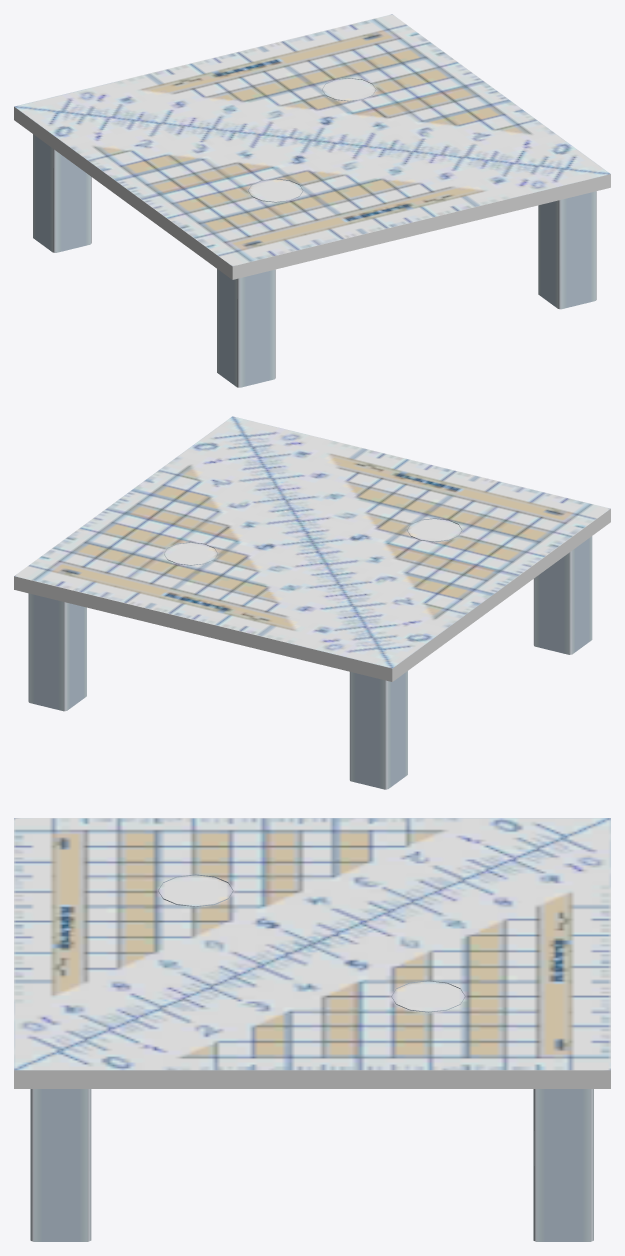
Rendered from int_stt_tableL.dae.
3 renders of one model, top to bottom at view 1: azimuth 30°, elevation 25°; view 2: azimuth 150°, elevation 25°; view 3: azimuth 270°, elevation 25°, orthographic. The views are drawn at different scales.
Visible parts, largest first — view 1: int_stt_tableL; view 2: int_stt_tableL; view 3: int_stt_tableL.
Part boxes in pixels (<box>): int_stt_tableL: <box>14,14,610,387</box>; int_stt_tableL: <box>14,416,610,789</box>; int_stt_tableL: <box>14,818,610,1241</box>.
Size of the model in its own units: 61.09 by 20 by 61.09.
Materials: 1 (1 with a texture image).
